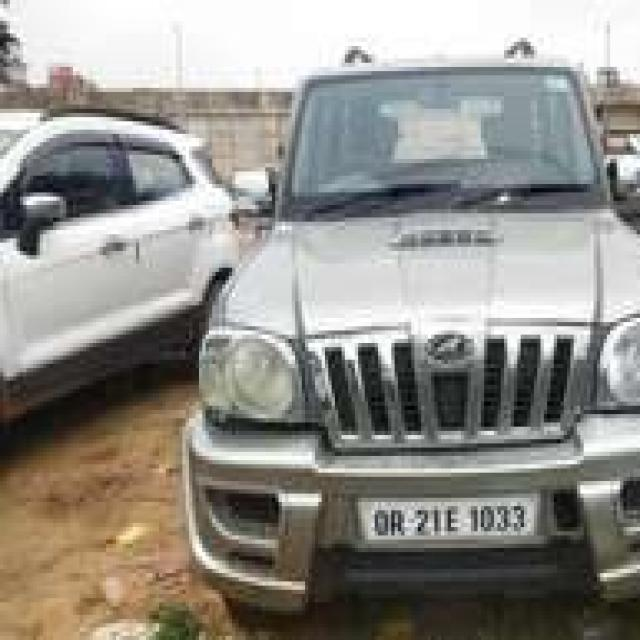Plate: (356, 491, 532, 537)
